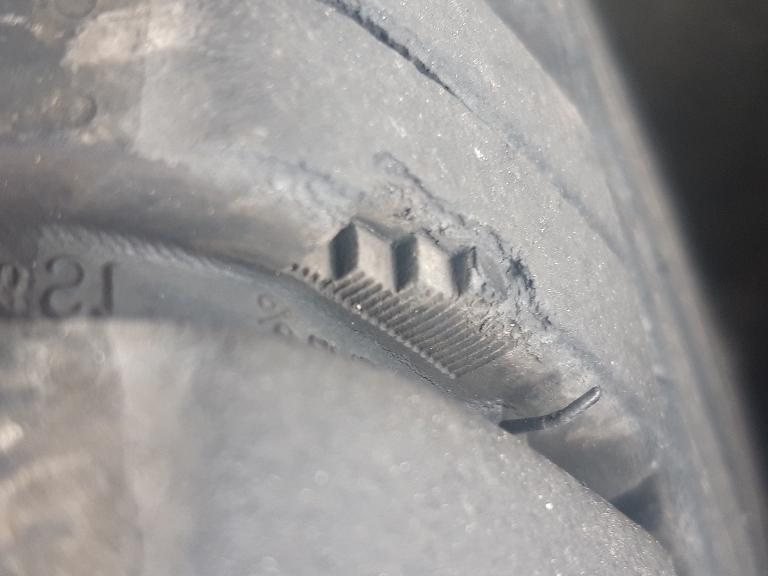temoin:80: (265, 143, 559, 392)
